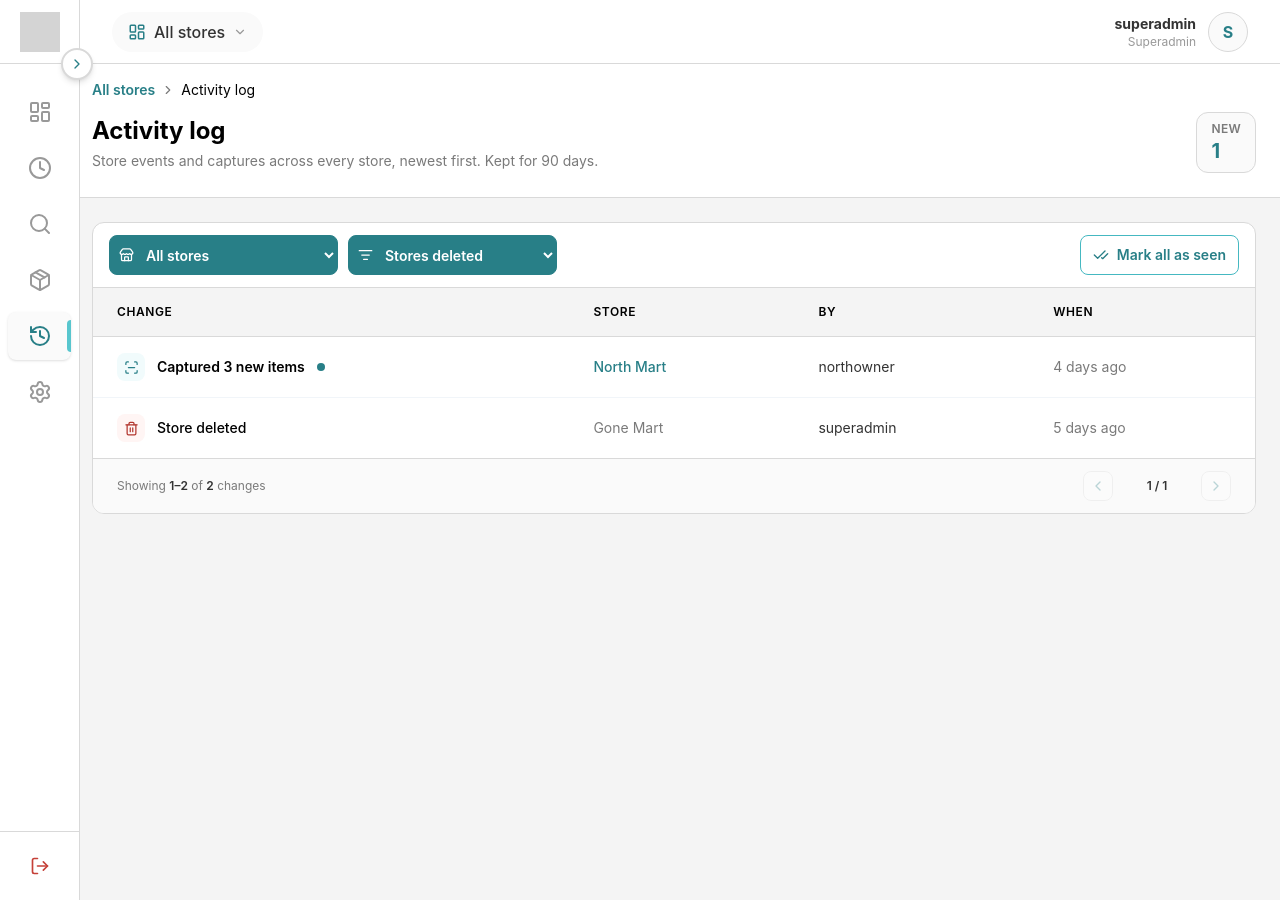
Scenario: AdminActivity › marks everything up to the newest change as seen, then reloads
Expected: the text "Captured 3 new items" is shown, [157, 357, 305, 377]
Click the button "Mark all as seen".
click(1159, 255)  # box [1080, 235, 1239, 275]
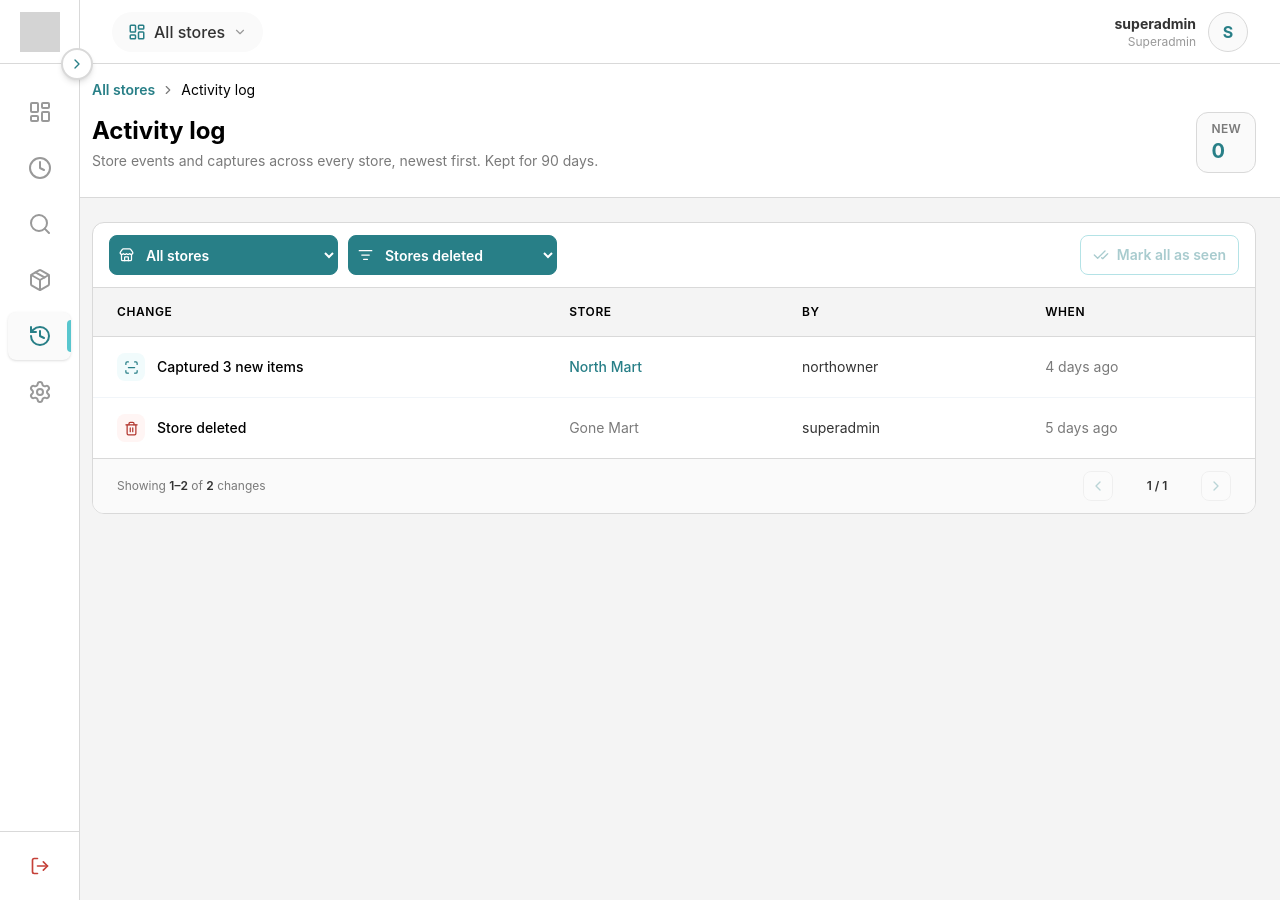
Now the button "Mark all as seen" is disabled, box [1080, 235, 1239, 275]
